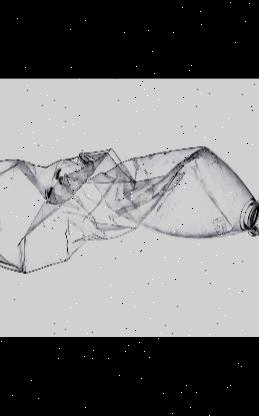Plastic Bottle: (0, 137, 259, 279)
